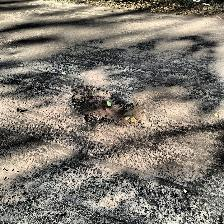pothole: (68, 84, 146, 128)
